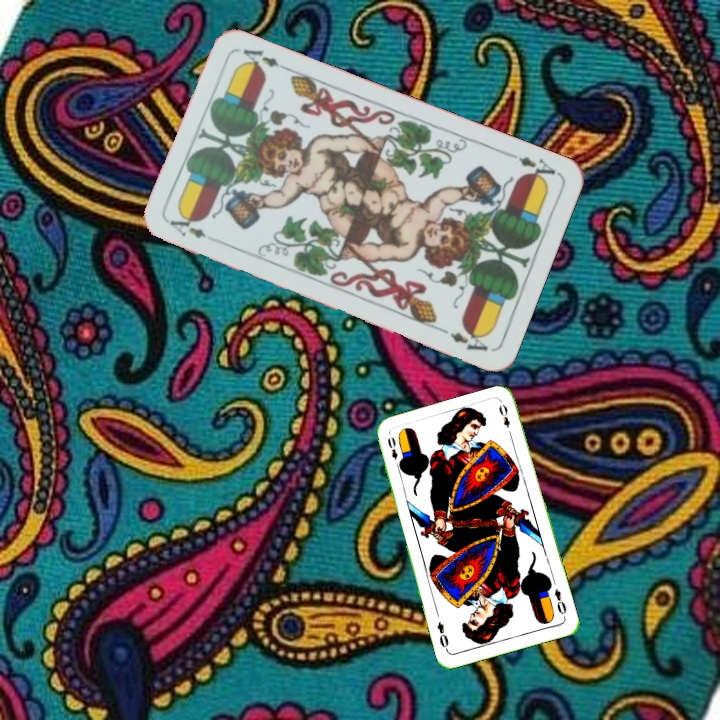EA: (503, 147, 558, 186), (165, 216, 209, 241)
EO: (383, 432, 404, 471), (550, 585, 569, 620)
